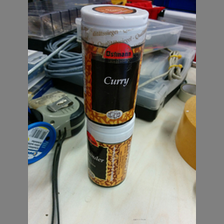spices: (81, 4, 150, 133), (87, 123, 137, 188)
